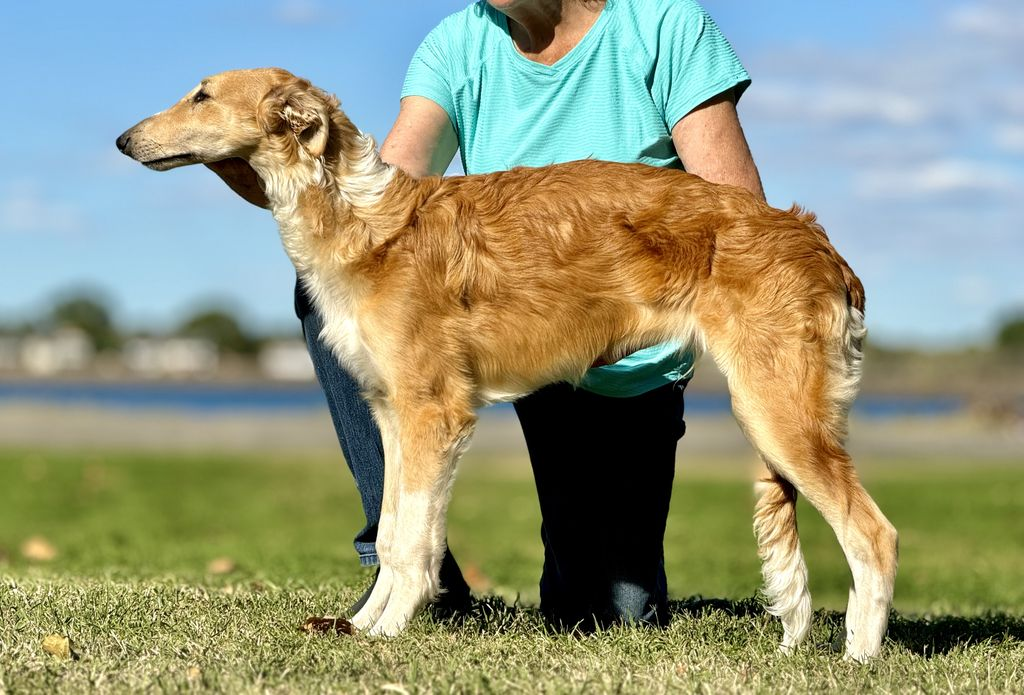borzoi: (116, 64, 904, 668)
